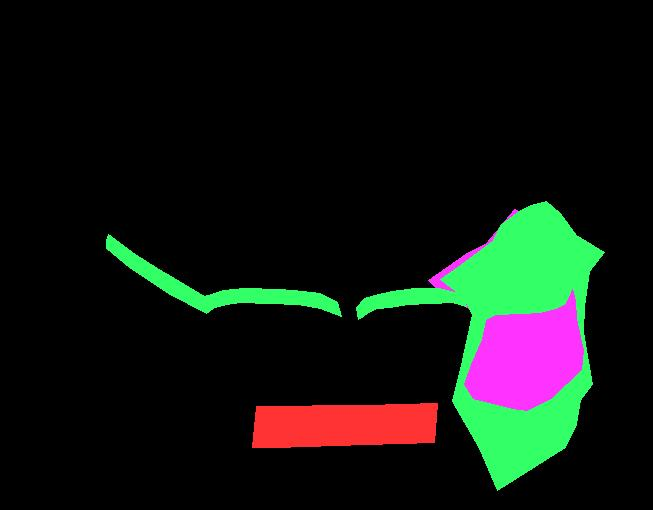Broken part: (440, 201, 604, 490), (106, 234, 341, 316), (484, 240, 570, 312), (356, 288, 466, 319)
Dent: (464, 289, 583, 410), (428, 209, 541, 314)
Missing part: (252, 403, 437, 447), (540, 338, 565, 372)
